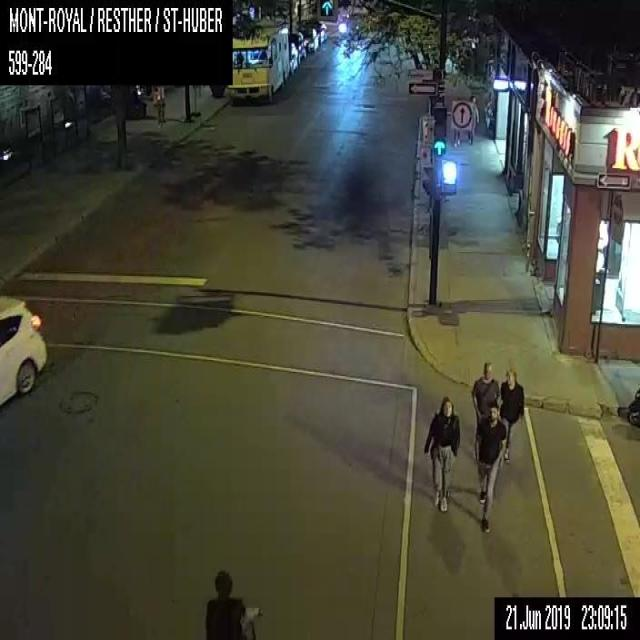cyclist: (204, 566, 261, 638)
pedestrian: (422, 397, 459, 513), (474, 401, 506, 534), (471, 360, 500, 464), (499, 366, 523, 464), (150, 83, 166, 122), (468, 96, 478, 144), (452, 130, 460, 146)
vehicle: (0, 294, 45, 402), (226, 22, 288, 99), (289, 31, 306, 63), (626, 388, 639, 427), (301, 27, 318, 53), (313, 20, 326, 44), (288, 42, 297, 74)
